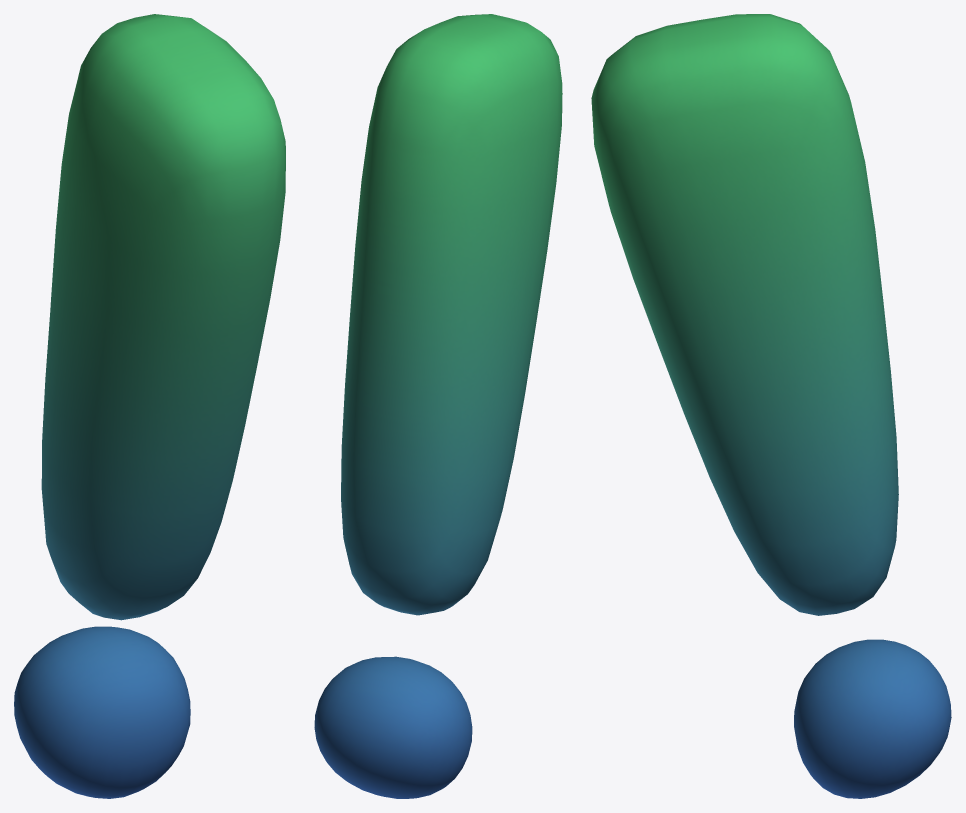
File: ExclamationMarkTripleOne.dae
3 renders of one model, left to right at view 1: azimuth 30°, elevation 25°; view 2: azimuth 150°, elevation 25°; view 3: azimuth 270°, elevation 25°, orthographic. The views are drawn at different scales.
Visible parts, largest first — view 1: Cube_002; view 2: Cube_002; view 3: Cube_002.
Part boxes in pixels (x1,y1,x2,y2): Cube_002: (14,14,285,798); Cube_002: (314,14,562,798); Cube_002: (591,14,951,798).
Bounding box in the file's own units: 0.406 × 0.8043 × 1.88.
Materials: 1 (1 with a texture image).
